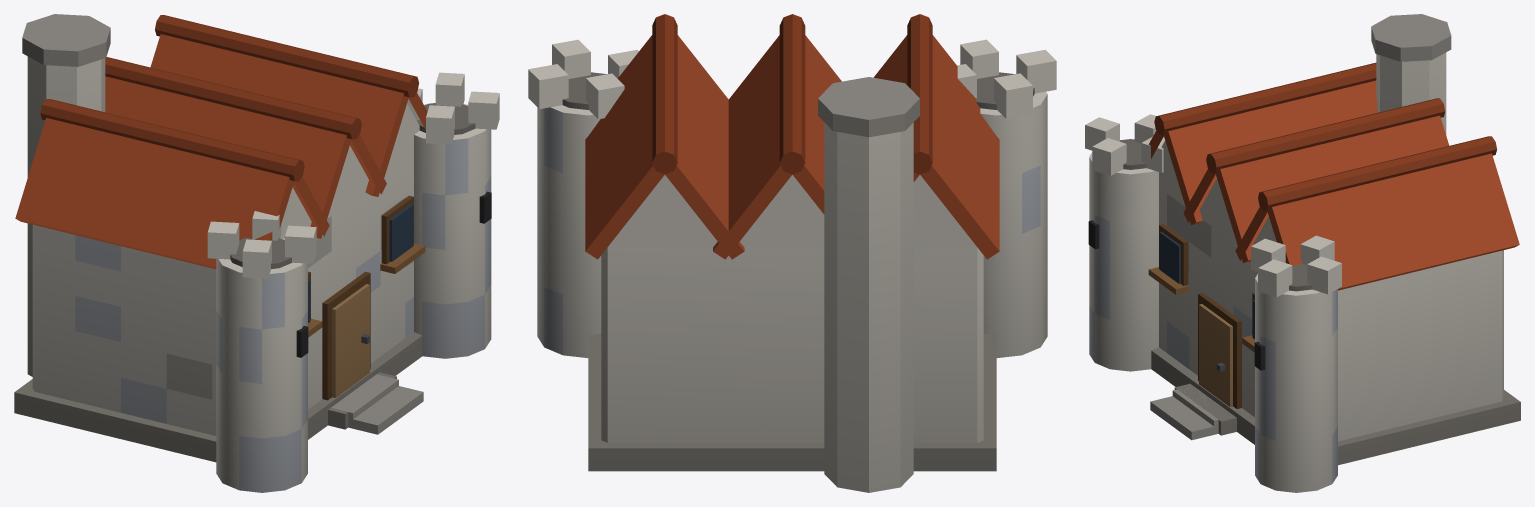
File: building_1.glb
3 views of the same model, side by side, from view 1: azimuth 30°, elevation 25°; view 2: azimuth 150°, elevation 25°; view 3: azimuth 270°, elevation 25° (orthographic). The views are drawn at different scales.
Parts seen in each view (by area): view 1: building_1; view 2: building_1; view 3: building_1.
Boxes of the visible parts, <box> form: building_1: <box>14,14,499,492</box>; building_1: <box>528,14,1056,492</box>; building_1: <box>1085,14,1520,492</box>.
Size of the model in its own units: 0.8936 by 0.65 by 0.8408.
